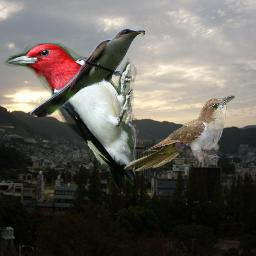Cuckoo: (30, 27, 145, 117), (123, 95, 235, 171)
Woodpecker: (3, 43, 142, 190)
